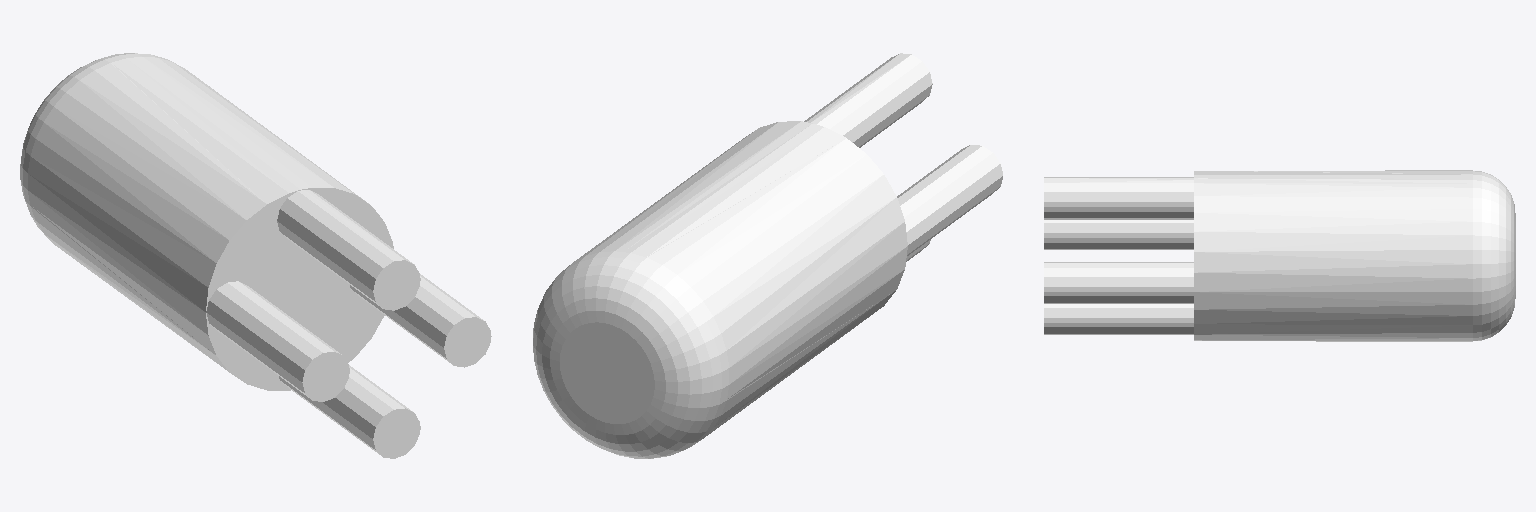
URDF robot description (R1501):
<robot
  name="R1501">
  <link
    name="R1501">
    <inertial>
      <origin
        xyz="1.0225E-15 -0.88398 5.22724762325953E-17"
        rpy="0 0 0" />
      <mass
        value="822.78" />
      <inertia
        ixx="260.169413388869"
        ixy="-8.22437898379333E-13"
        ixz="3.24849211668914E-16"
        iyy="66.0732535486526"
        iyz="1.14037818073535E-14"
        izz="260.169413388869" />
    </inertial>
    <visual>
      <origin
        xyz="0 0 0"
        rpy="1.5707963267949 0 0" />
      <geometry>
        <mesh
          filename="package://R1501/meshes/R1501.STL" />
      </geometry>
      <material
        name="">
        <color
          rgba="1 1 1 1" />
      </material>
    </visual>
    <collision>
      <origin
        xyz="0 0 0"
        rpy="1.5707963267949 0 0" />
      <geometry>
        <mesh
          filename="package://R1501/meshes/R1501.STL" />
      </geometry>
    </collision>
  </link>
</robot>

--- What the picture shows (computed from the rendered views, not written in the file) ---
3 views of the same robot in one strip: view 1: azimuth 30°, elevation 25°; view 2: azimuth 150°, elevation 25°; view 3: azimuth 270°, elevation 25° (orthographic).
Robot: R1501 — 1 links, 0 joints (none); root link R1501; default pose: all joints at 0.
Links seen in each view (by area): view 1: R1501; view 2: R1501; view 3: R1501.
Link boxes in pixels (box(x1,y1,x2,y2)): R1501: box(20, 53, 491, 458); R1501: box(533, 53, 1002, 458); R1501: box(1044, 170, 1515, 341).
Bounding box of the posed robot: 0.8 × 2.2 × 0.8 m (x, y, z).
Meshes: 1 distinct files referenced, 1 mesh visuals loaded (1 binary STL).